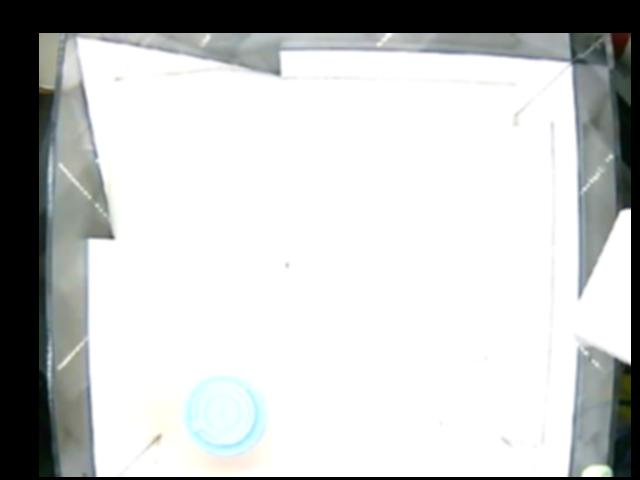Bottle: (392, 140, 532, 282)
Cup: (181, 372, 271, 453)
